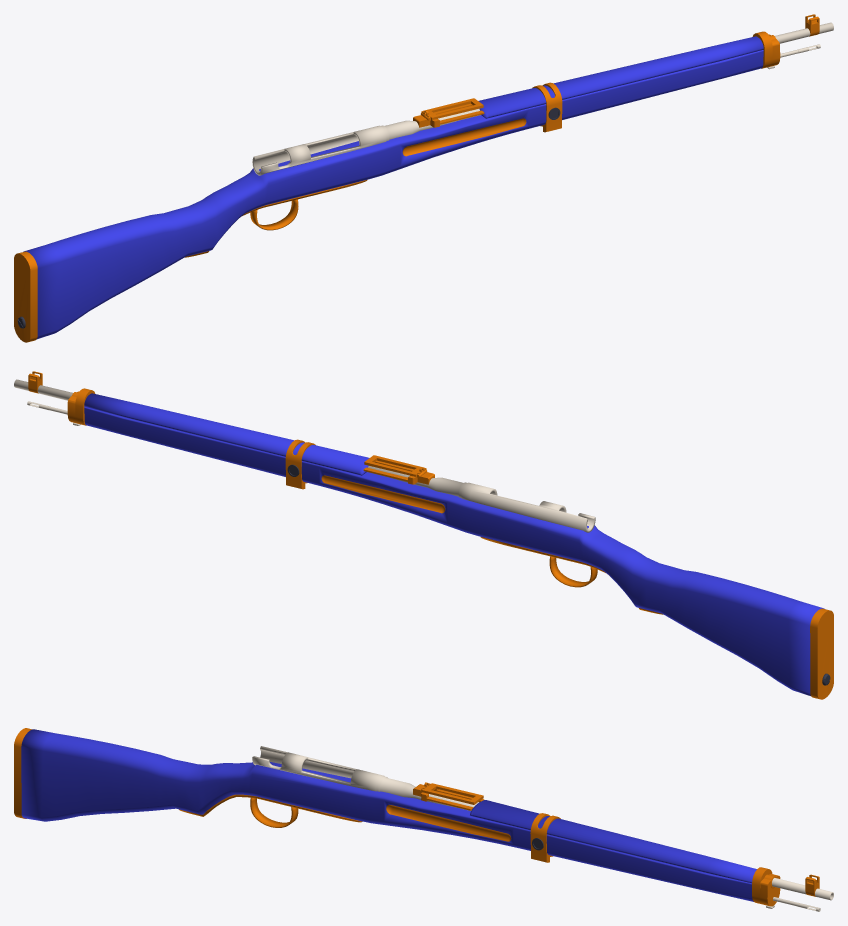
File: A99 Body.fbx
3 renders of one model, top to bottom at view 1: azimuth 30°, elevation 25°; view 2: azimuth 150°, elevation 25°; view 3: azimuth 330°, elevation 25°, orthographic.
Parts seen in each view (by area): view 1: Gun; view 2: Gun; view 3: Gun.
Boxes of the visible parts, x1=… form: Gun: x1=14, y1=14, x2=833, y2=342; Gun: x1=14, y1=371, x2=833, y2=699; Gun: x1=14, y1=728, x2=833, y2=911.
Size of the model in its own units: 169 by 26.25 by 6.23.
